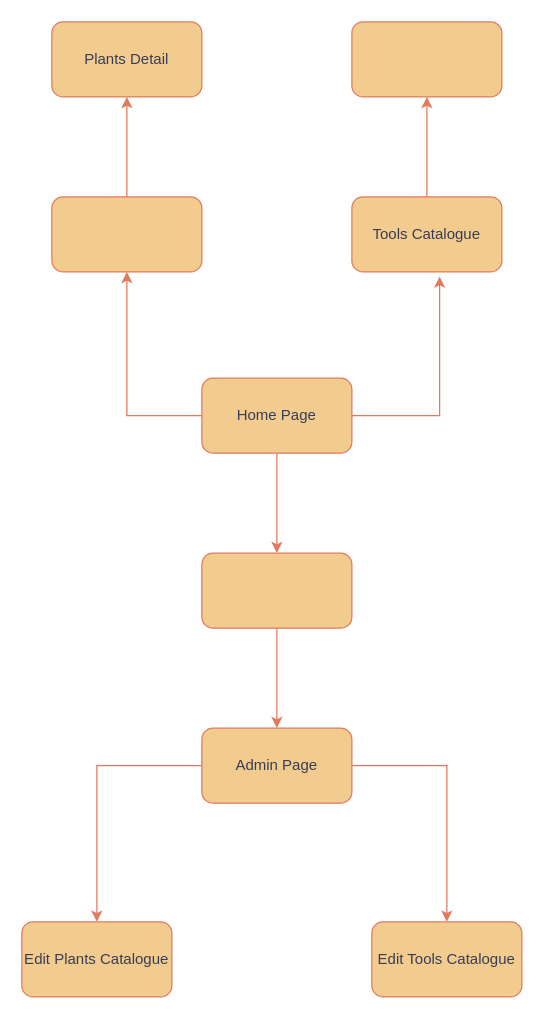
The diagram is 544 pixels wide and 1019 high, and some of its shapes have lost their labels. Here are the shapes that lost their labels. From the top down, the centre of each, then its label:
At pixel 426 59: "Tool Detail".
At pixel 126 234: "Plants Catalogue".
At pixel 276 590: "Login Admin".
